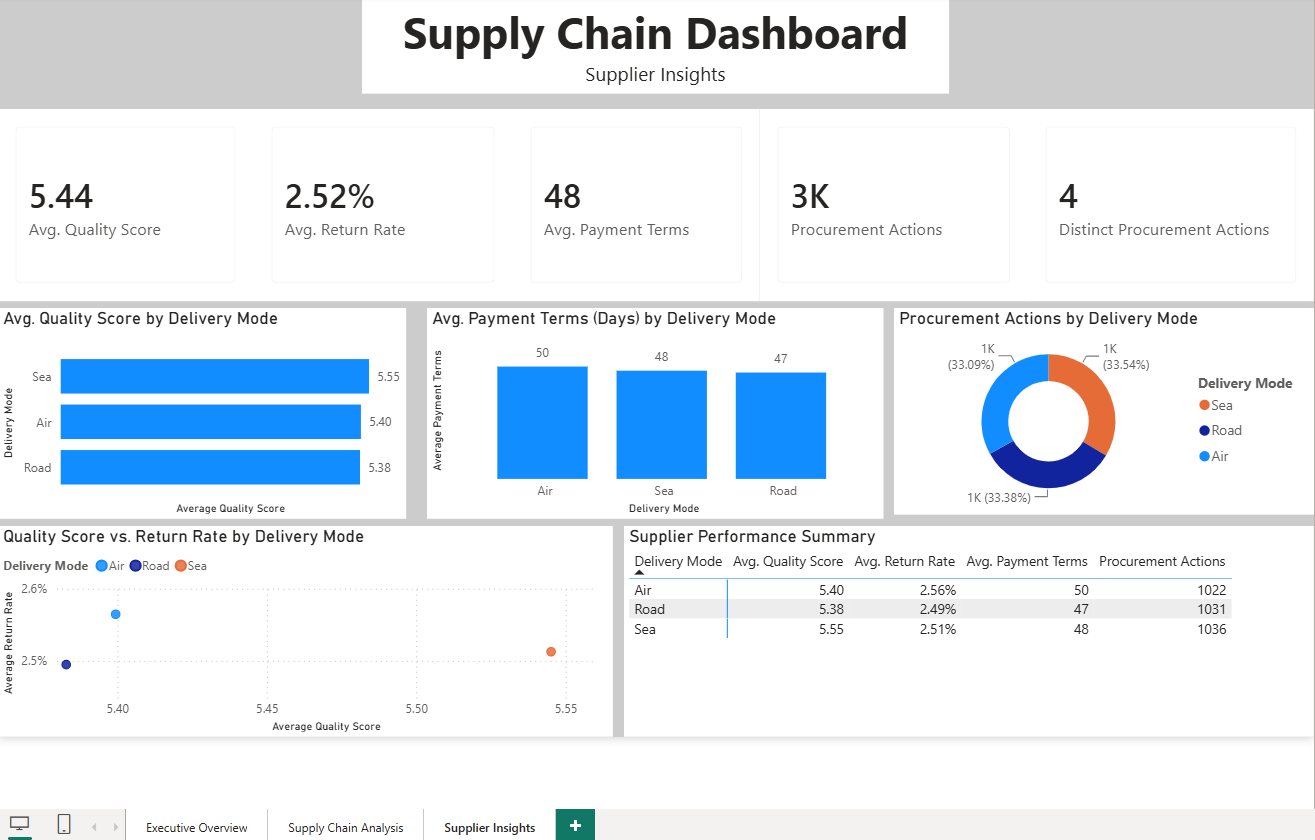

The page's visual inventory and layout, read from the dashboard file:
{"tool":"powerbi","page":{"name":"Supplier Insights","canvas":[1280,720],"ordinal":2},"visuals":[{"type":"textbox","box":[354,0,570.9,94.3],"z":0},{"type":"cardVisual","fields":{"Data":["Supply_chain_dataset.Average Quality Score"]},"box":[0,108.9,249,186.7],"z":1000},{"type":"cardVisual","fields":{"Data":["Supply_chain_dataset.Average Return Rate"]},"box":[249,108.9,251.9,186.7],"z":2000},{"type":"cardVisual","fields":{"Data":["Supply_chain_dataset.Average Payment Terms"]},"box":[500.9,108.9,240.2,186.7],"z":2001},{"type":"cardVisual","fields":{"Data":["Supply_chain_dataset.Procurement Actions"]},"box":[741.2,108.9,260.7,186.7],"z":2002},{"type":"cardVisual","fields":{"Data":["Supply_chain_dataset.Distinct Procurement Actions"]},"box":[1001.8,108.9,278.2,186.7],"z":2003},{"type":"clusteredBarChart","title":"Avg. Quality Score by Delivery Mode","fields":{"Category":["Supply_chain_dataset.delivery_mode"],"Y":["Supply_chain_dataset.Average Quality Score"]},"box":[0,302.5,396.8,205.2],"z":2004},{"type":"donutChart","fields":{"Category":["Supply_chain_dataset.delivery_mode"],"Y":["Supply_chain_dataset.Procurement Actions"]},"box":[871.5,302.5,408.5,201.3],"z":2005},{"type":"scatterChart","title":"Quality Score vs. Return Rate by Delivery Mode","fields":{"X":["Supply_chain_dataset.Average Quality Score"],"Y":["Supply_chain_dataset.Average Return Rate"],"Series":["Supply_chain_dataset.delivery_mode"]},"box":[0,514.5,598.2,205.2],"z":2006},{"type":"clusteredColumnChart","title":"Avg. Payment Terms (Days) by Delivery Mode","fields":{"Category":["Supply_chain_dataset.delivery_mode"],"Y":["Supply_chain_dataset.Average Payment Terms"]},"box":[417.3,302.5,444.5,205.2],"z":2007},{"type":"pivotTable","title":"Supplier Performance Summary","fields":{"Rows":["Supply_chain_dataset.delivery_mode"],"Values":["Supply_chain_dataset.Average Quality Score","Supply_chain_dataset.Average Return Rate","Supply_chain_dataset.Average Payment Terms","Supply_chain_dataset.Procurement Actions"]},"box":[608.9,514.5,671.1,205.2],"z":2008}]}

Visuals, with their boxes on the page's 1280x720 design canvas (x1, y1, x2, y2). These are canvas units, not pixel positions in the 1315x840 screenshot, which may show the page scaled, cropped or inside an application window:
textbox: (354,0,925,94)
cardVisual - Supply_chain_dataset.Average Quality Score: (0,109,249,296)
cardVisual - Supply_chain_dataset.Average Return Rate: (249,109,501,296)
cardVisual - Supply_chain_dataset.Average Payment Terms: (501,109,741,296)
cardVisual - Supply_chain_dataset.Procurement Actions: (741,109,1002,296)
cardVisual - Supply_chain_dataset.Distinct Procurement Actions: (1002,109,1280,296)
"Avg. Quality Score by Delivery Mode" clusteredBarChart: (0,302,397,508)
donutChart - Supply_chain_dataset.delivery_mode x Supply_chain_dataset.Procurement Actions: (872,302,1280,504)
"Quality Score vs. Return Rate by Delivery Mode" scatterChart: (0,514,598,720)
"Avg. Payment Terms (Days) by Delivery Mode" clusteredColumnChart: (417,302,862,508)
"Supplier Performance Summary" pivotTable: (609,514,1280,720)
